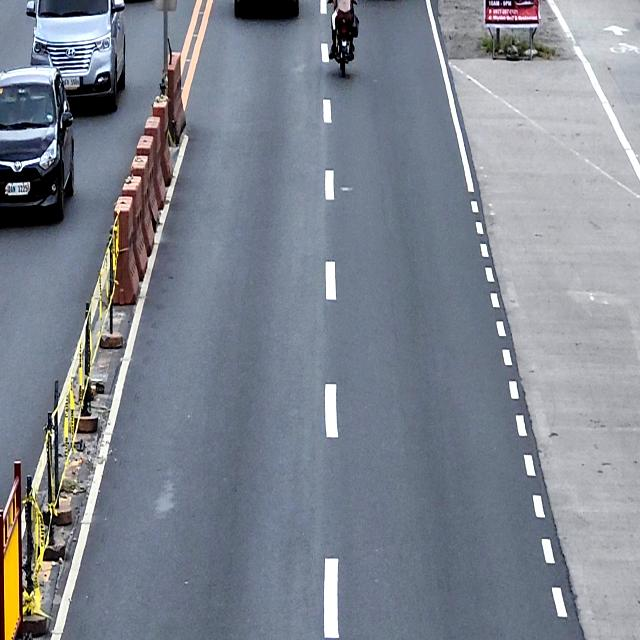Car: (0, 65, 76, 224), (26, 0, 128, 113)
License-Plate: (6, 182, 29, 195), (61, 77, 81, 88)
Motorcycle: (327, 0, 357, 75)
